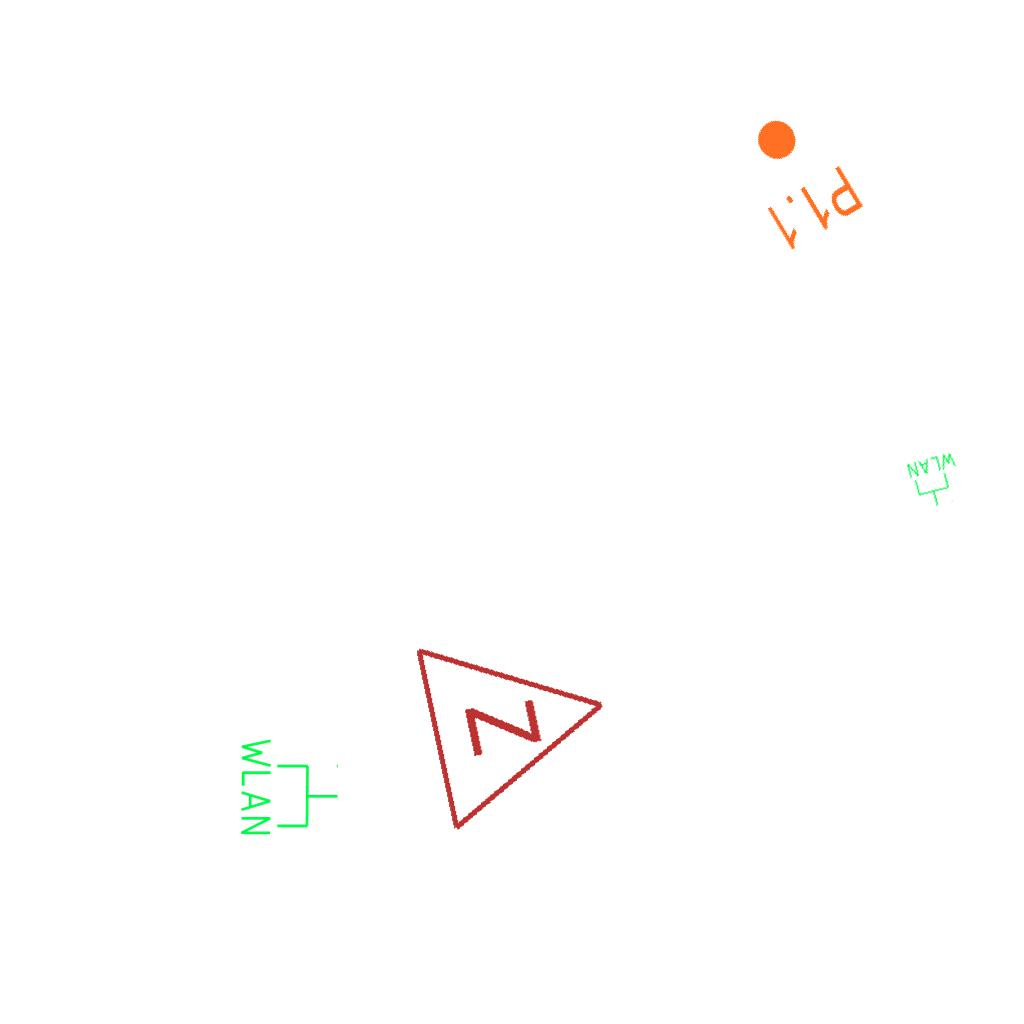Downlight_LED_Einbauleuchten_Flur: (722, 98, 869, 256)
WLAN: (237, 734, 341, 839), (904, 449, 968, 513)
Zimmersignalleuchte: (399, 603, 637, 837)
